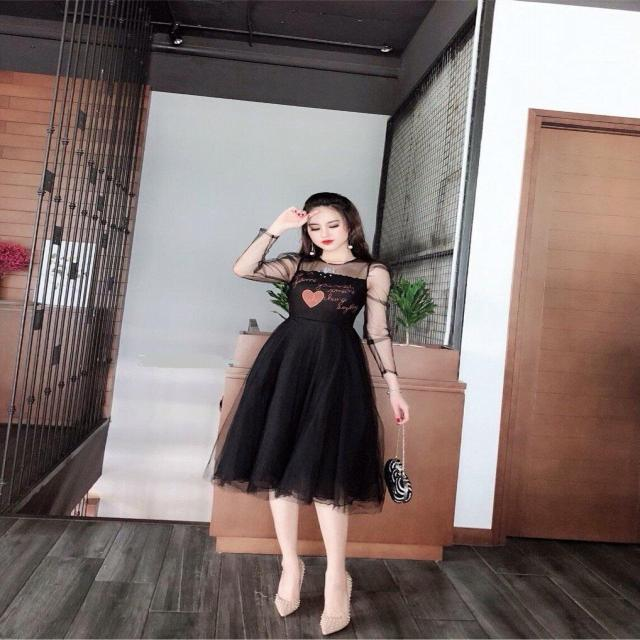clothes: (214, 236, 396, 508)
